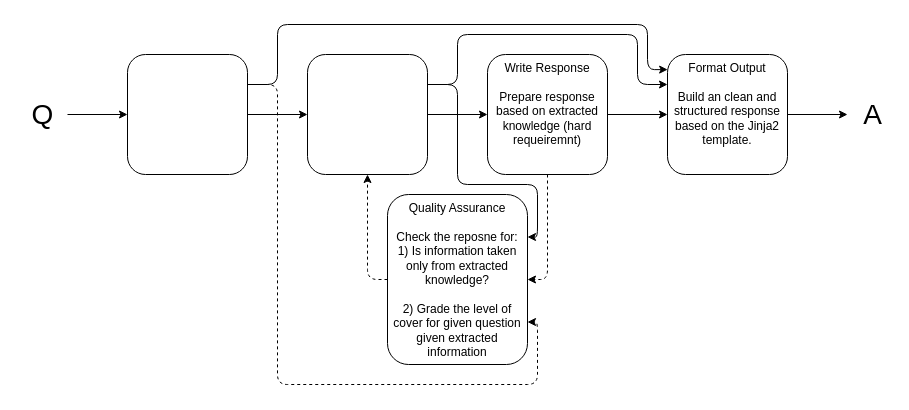
This 909x410 diagram has some shape labels left out. Each missing label, with the centre of its shape:
"Evaluate Needs User wants: Solution Provided: Enviroment, Problem" belongs at point 187,114.
"Explore Knowledge Query by most similar Poblem & Enviroment Weighted by Needs" belongs at point 367,114.
